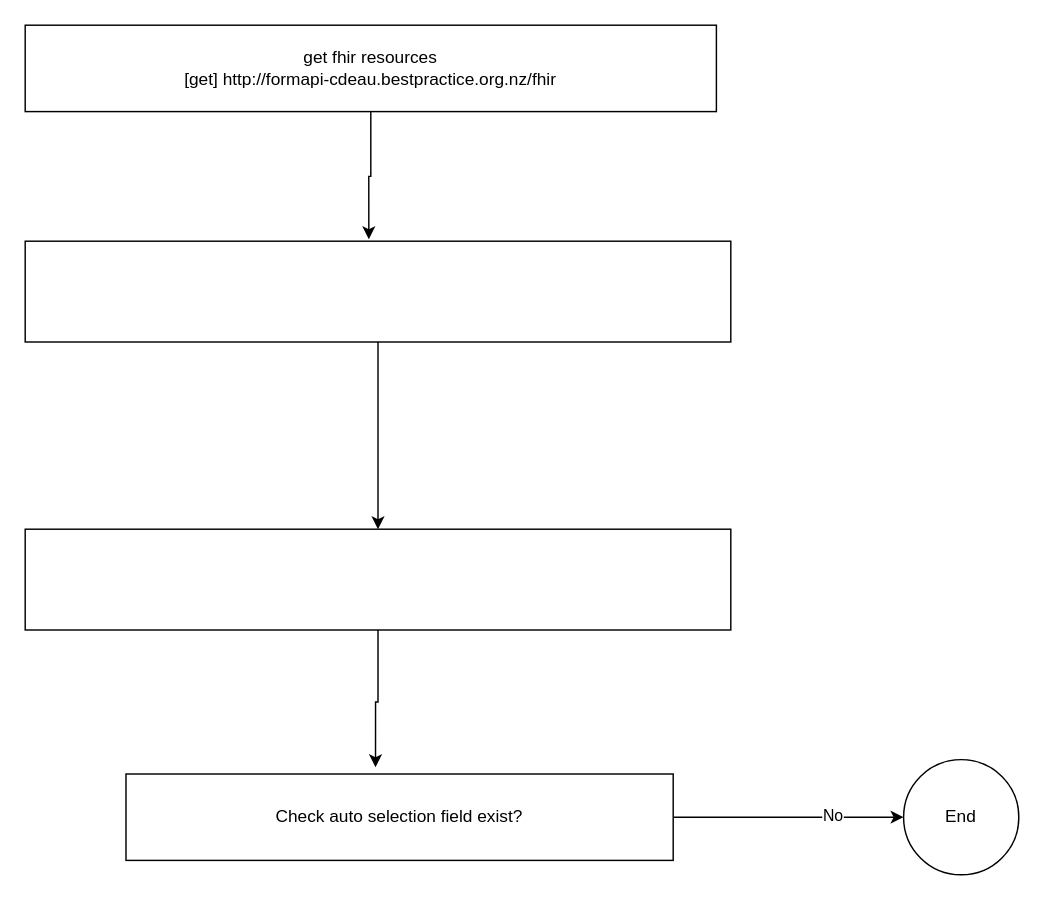
Image size: 1044x900. Some labels were removed from this diagram. Each missing label, with the box of its shape:
Find questioners from it: (24, 240, 731, 342)
Loop Through entity one by one: (24, 528, 731, 630)
